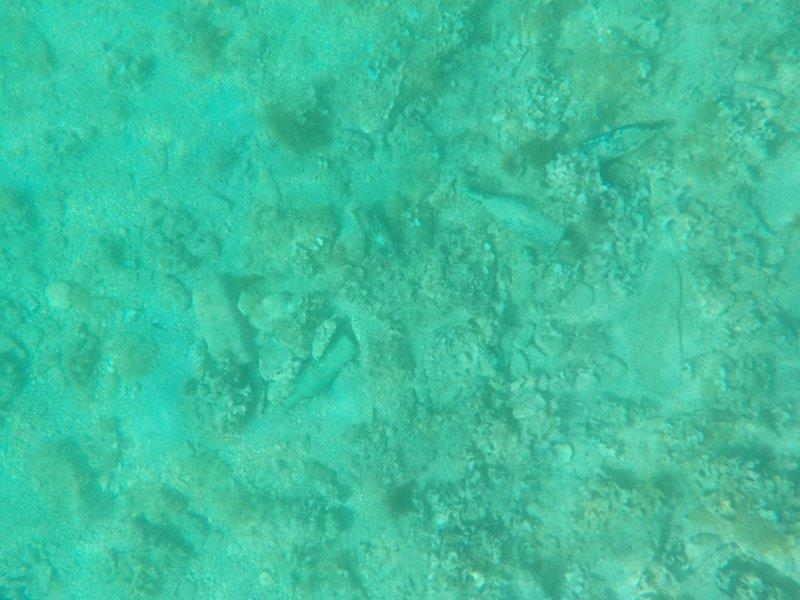bottle: (274, 330, 361, 416), (460, 184, 571, 248), (572, 116, 676, 172)
